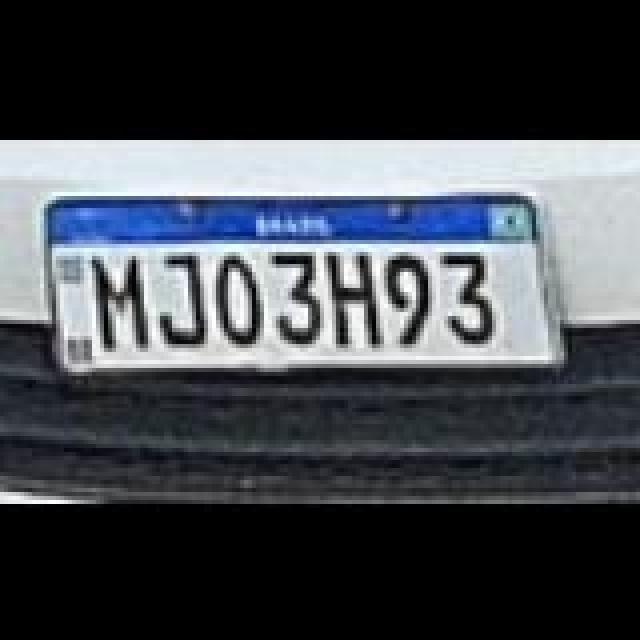3: (442, 248, 502, 344), (270, 248, 322, 344)
9: (382, 248, 434, 344)
H: (328, 248, 384, 344)
J: (154, 246, 214, 346)
M: (94, 250, 154, 350)
O: (214, 248, 266, 344)
